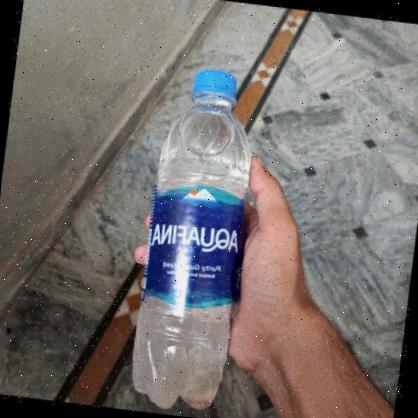bottle: (132, 65, 262, 418)
cap: (190, 69, 240, 105)
label: (144, 188, 247, 310)
